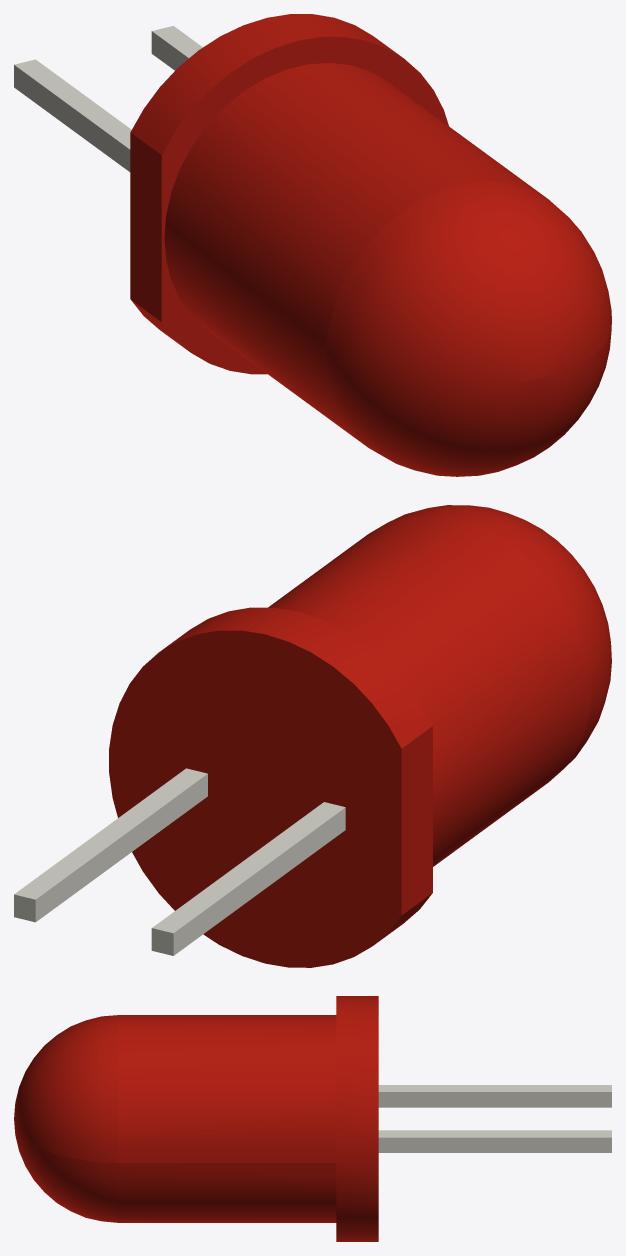
Rendered from led.glb.
3 renders of one model, top to bottom at view 1: azimuth 30°, elevation 25°; view 2: azimuth 150°, elevation 25°; view 3: azimuth 270°, elevation 25°, orthographic. The views are drawn at different scales.
Visible parts, largest first — view 1: plastic-0.45-0.01-0.00, metal-0.6; view 2: plastic-0.45-0.01-0.00, metal-0.6; view 3: plastic-0.45-0.01-0.00, metal-0.6.
Part boxes in pixels (left/top/right/bottom): plastic-0.45-0.01-0.00: left=130, top=14, right=611, bottom=476; metal-0.6: left=14, top=26, right=202, bottom=171; plastic-0.45-0.01-0.00: left=109, top=505, right=611, bottom=967; metal-0.6: left=14, top=768, right=345, bottom=955; plastic-0.45-0.01-0.00: left=14, top=996, right=378, bottom=1241; metal-0.6: left=378, top=1085, right=611, bottom=1152.
Bounding box in the file's own units: 5.39 × 5.8 × 14.1.
